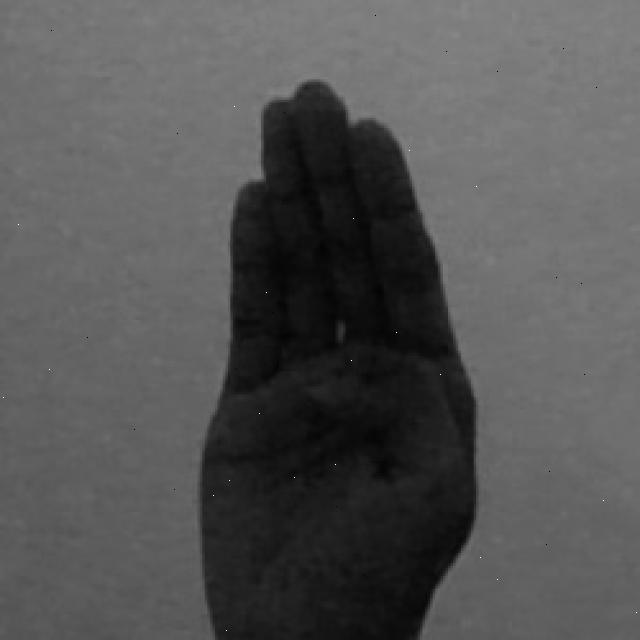B: (199, 78, 477, 640)
